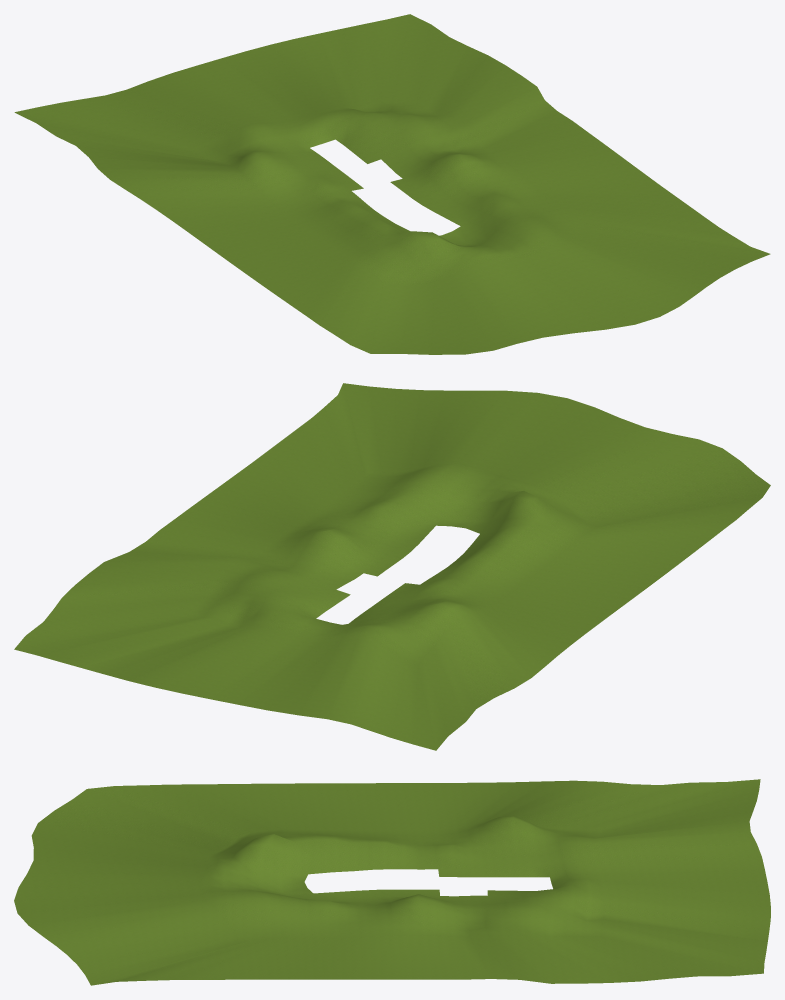
File: meshforgrass.glb
3 renders of one model, top to bottom at view 1: azimuth 30°, elevation 25°; view 2: azimuth 150°, elevation 25°; view 3: azimuth 270°, elevation 25°, orthographic. The views are drawn at different scales.
Visible parts, largest first — view 1: Gtround; view 2: Gtround; view 3: Gtround.
Boxes of the visible parts, x1,y1,x2,y2 form: Gtround: (14,14,770,354); Gtround: (14,383,770,750); Gtround: (14,779,770,985).
Size of the model in its own units: 1115 by 76.48 by 1728.
Materials: 1 (1 with a texture image).
